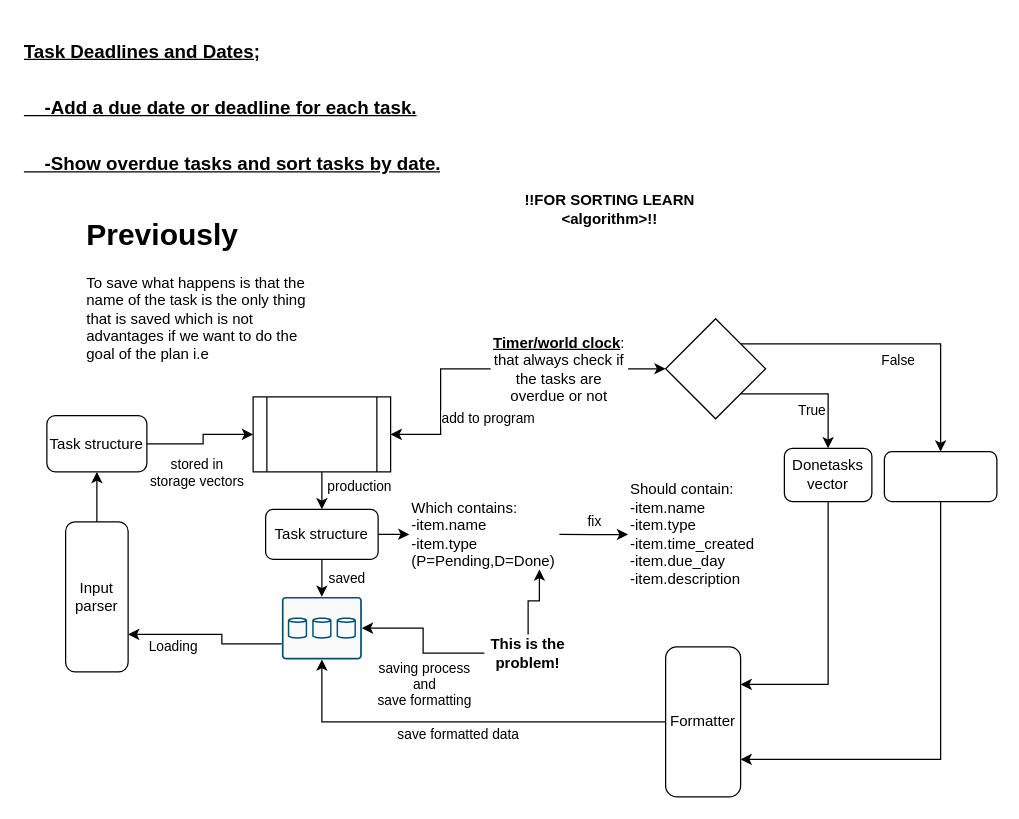
Some shapes in this 1019 by 819 pixel diagram are drawn without their labels. The centre of each missing label's shape, as x and y in pixels:
"Pendingtasks vector" goes at (940,476).
"Programs Runs" goes at (321,434).
"Task overdue?" goes at (715,368).
